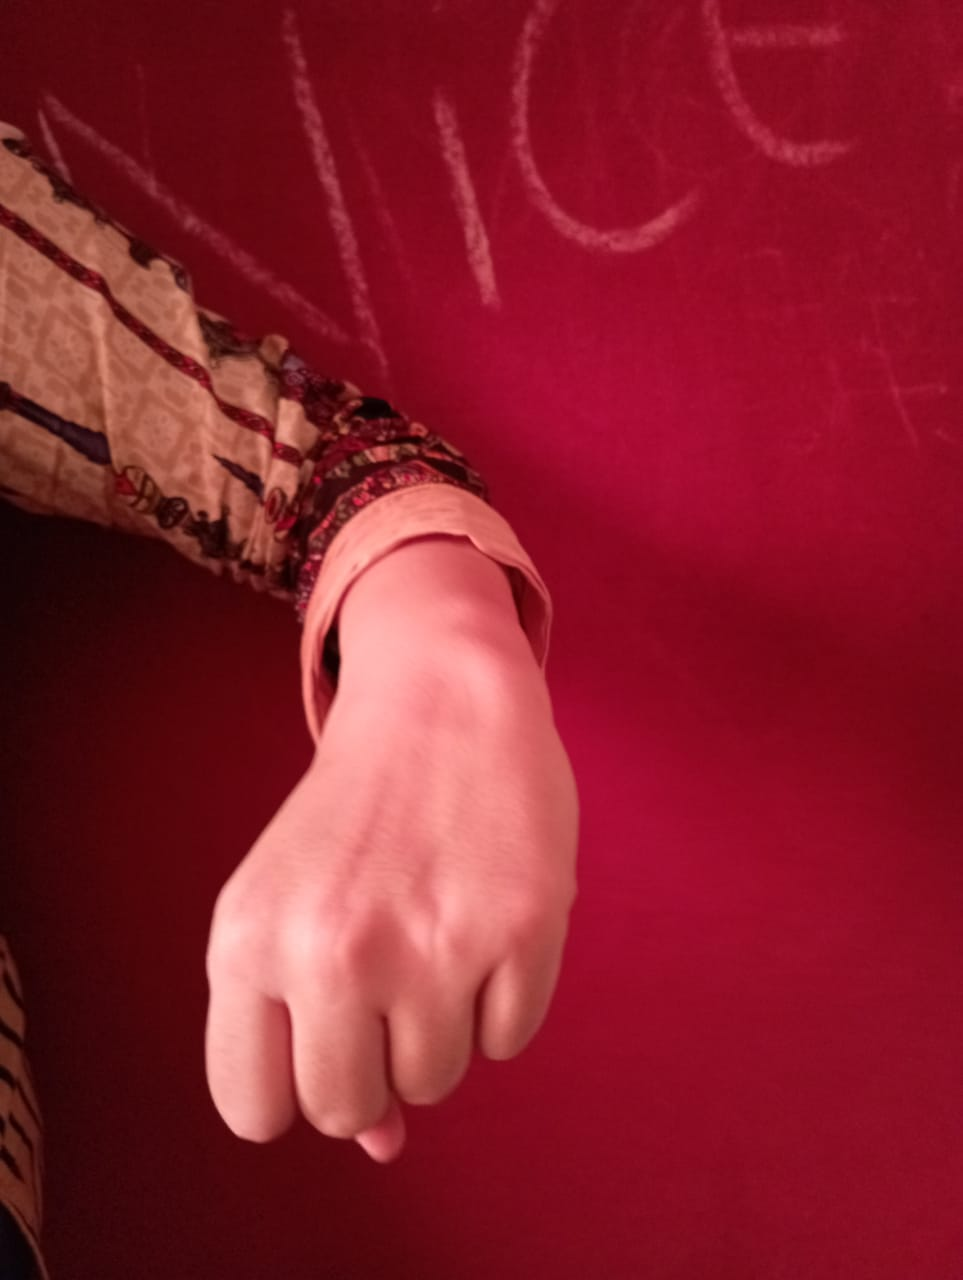BroCode: (197, 715, 589, 1214)
